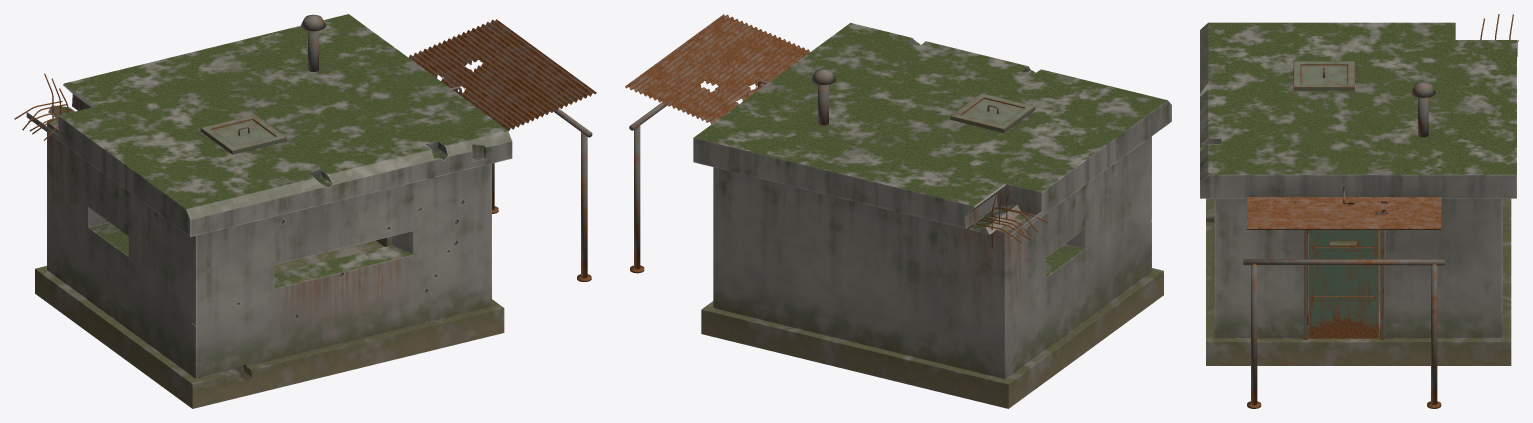
File: Bunker_A.glb
3 views of the same model, side by side, from view 1: azimuth 30°, elevation 25°; view 2: azimuth 150°, elevation 25°; view 3: azimuth 270°, elevation 25° (orthographic). The views are drawn at different scales.
Visible parts, largest first — view 1: Bunker_A; view 2: Bunker_A; view 3: Bunker_A, Bunker_A_Door.
Boxes of the visible parts, bbox=[...] form: Bunker_A: bbox=[14, 14, 596, 408]; Bunker_A: bbox=[625, 14, 1171, 408]; Bunker_A: bbox=[1200, 14, 1518, 408]; Bunker_A_Door: bbox=[1307, 213, 1378, 338].
Size of the model in its own units: 6.88 by 3.77 by 4.43.
Materials: 2 (2 with a texture image).
